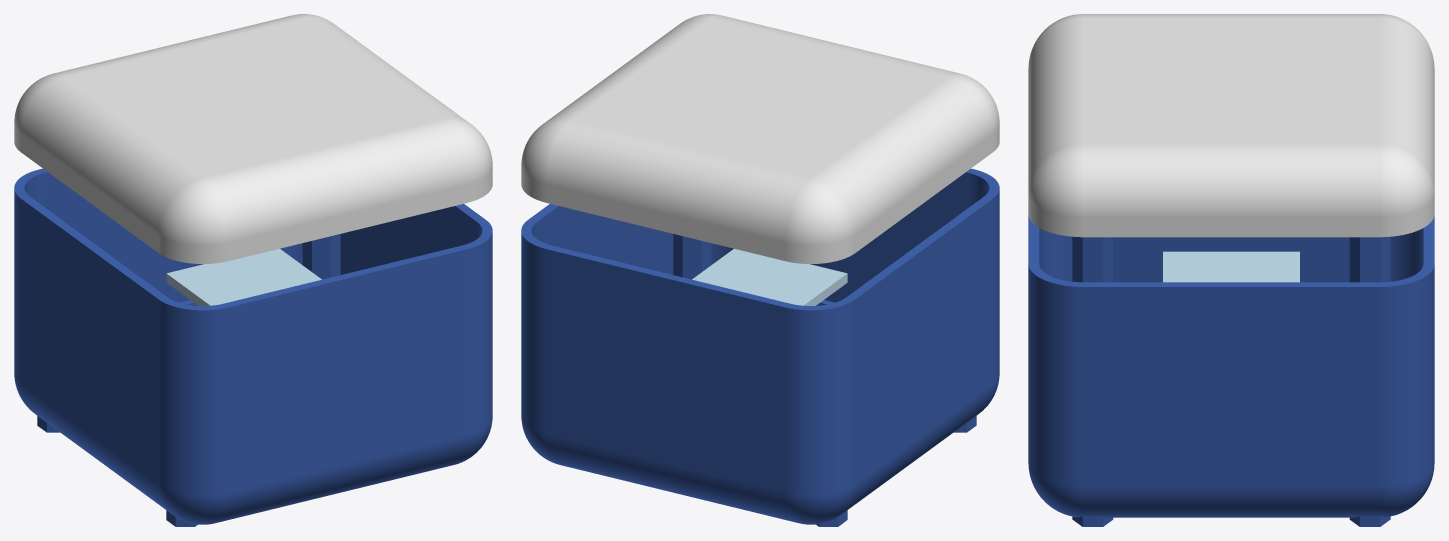
Rendered from s3-cube-full-model-view.obj.
3 renders of one model, left to right at view 1: azimuth 30°, elevation 25°; view 2: azimuth 150°, elevation 25°; view 3: azimuth 270°, elevation 25°, orthographic. The views are drawn at different scales.
Parts seen in each view (by area): view 1: mesh43, mesh11, mesh44, mesh13, mesh42, mesh5, mesh66, mesh62, mesh56, mesh57, mesh175, mesh9 (+14 smaller); view 2: mesh50, mesh11, mesh44, mesh6, mesh47, mesh5, mesh82, mesh62, mesh61, mesh53, mesh175, mesh2 (+14 smaller); view 3: mesh54, mesh11, mesh14, mesh53, mesh57, mesh74, mesh6, mesh13, mesh49, mesh10, mesh175, mesh12 (+17 smaller).
Boxes of the visible parts, bbox=[...] form: mesh43: bbox=[228, 249, 467, 492]; mesh11: bbox=[66, 18, 441, 177]; mesh44: bbox=[21, 199, 158, 484]; mesh13: bbox=[203, 119, 467, 242]; mesh42: bbox=[159, 300, 228, 495]; mesh5: bbox=[21, 77, 202, 234]; mesh66: bbox=[217, 434, 467, 522]; mesh62: bbox=[340, 206, 476, 274]; mesh56: bbox=[45, 172, 283, 302]; mesh57: bbox=[467, 232, 492, 433]; mesh175: bbox=[167, 248, 321, 305]; mesh9: bbox=[228, 184, 467, 260]; mesh50: bbox=[546, 249, 785, 492]; mesh11: bbox=[572, 19, 947, 177]; mesh44: bbox=[855, 199, 992, 484]; mesh6: bbox=[546, 119, 810, 242]; mesh47: bbox=[785, 300, 854, 495]; mesh5: bbox=[811, 77, 992, 234]; mesh82: bbox=[547, 434, 796, 522]; mesh62: bbox=[537, 206, 673, 274]; mesh61: bbox=[730, 172, 968, 302]; mesh53: bbox=[521, 232, 546, 433]; mesh175: bbox=[692, 248, 846, 305]; mesh2: bbox=[546, 184, 785, 260]; mesh54: bbox=[1083, 287, 1379, 485]; mesh11: bbox=[1083, 19, 1379, 144]; mesh14: bbox=[1083, 144, 1379, 217]; mesh53: bbox=[1379, 264, 1434, 485]; mesh57: bbox=[1028, 264, 1083, 485]; mesh74: bbox=[1083, 486, 1379, 517]; mesh6: bbox=[1379, 19, 1434, 192]; mesh13: bbox=[1028, 19, 1083, 192]; mesh49: bbox=[1113, 237, 1349, 282]; mesh10: bbox=[1083, 217, 1379, 237]; mesh175: bbox=[1163, 251, 1299, 282]; mesh12: bbox=[1379, 144, 1434, 217].
Size of the model in its own units: 0.074 by 0.074 by 0.074.
